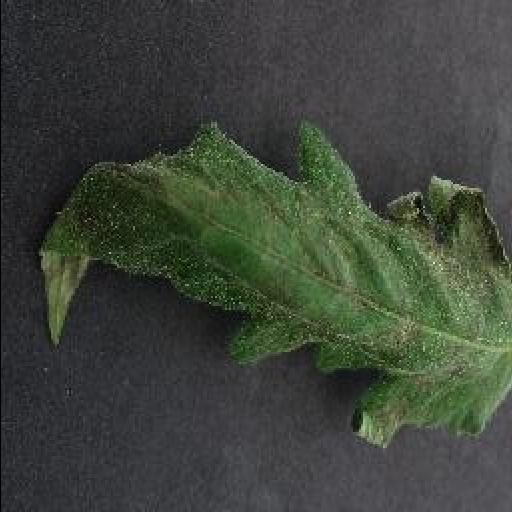disease_tomato: (40, 116, 512, 448)
